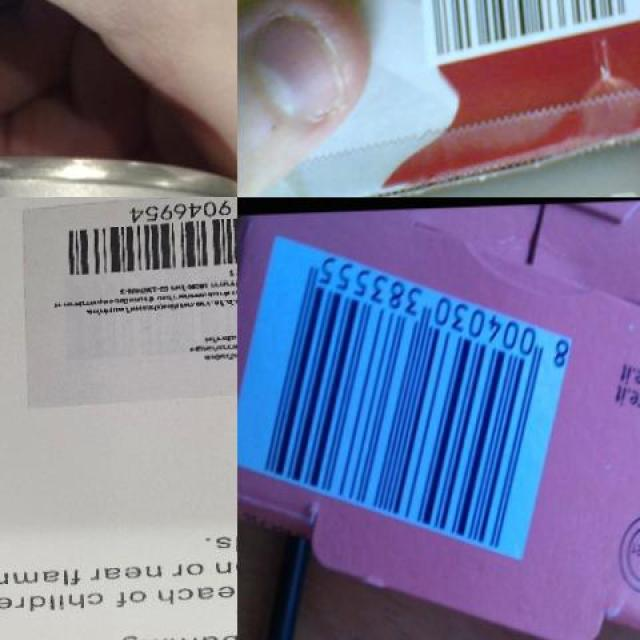Barcode: (237, 216, 575, 567), (54, 198, 238, 282), (408, 0, 640, 63)
